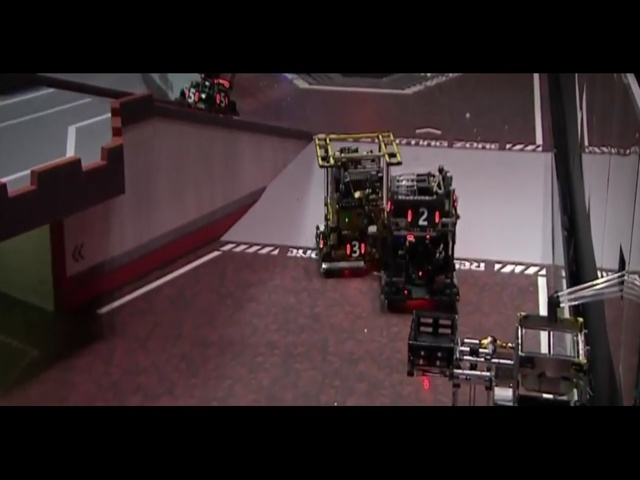bestBluePlate: (389, 310, 407, 328)
bestRedPlate: (38, 319, 79, 360)
bluePlate: (206, 156, 232, 182), (325, 317, 349, 341), (126, 190, 149, 213), (249, 160, 271, 182), (286, 133, 304, 151)
redPlate: (107, 313, 134, 340), (275, 169, 294, 188)
